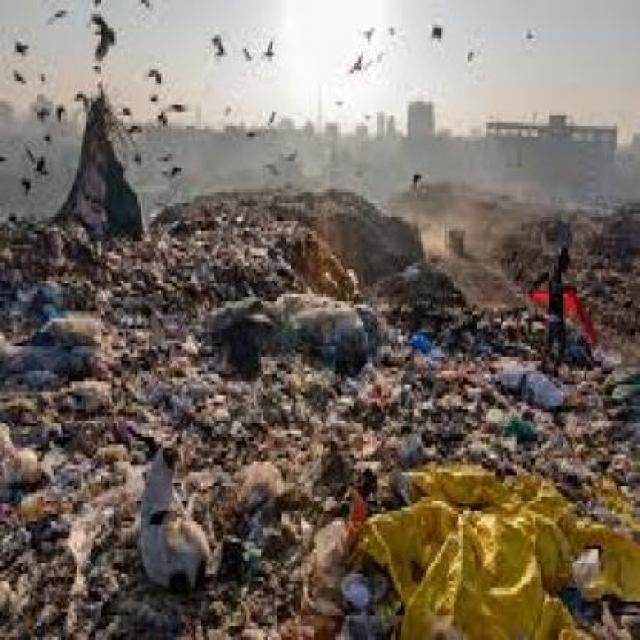garbage: (19, 225, 326, 418), (259, 339, 638, 472), (3, 381, 138, 636), (217, 466, 342, 634)
